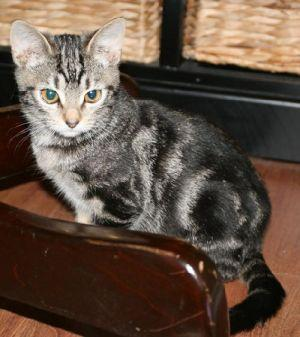bengal: (3, 5, 139, 150)
